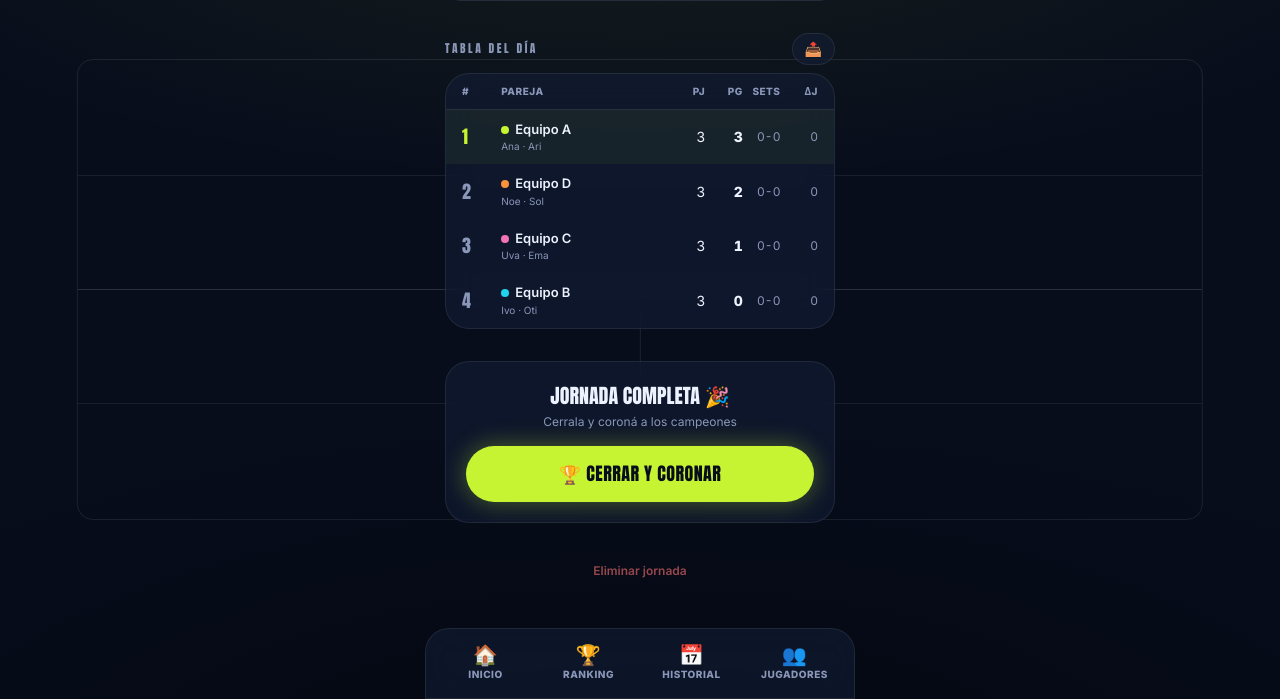
Scenario: Session: cierre de jornada › con los 6 jugados cierra directo, sin confirmación
(page scrolled)
Expected: the text "Jornada completa 🎉" is shown, [550,380,730,411]
Click the button "🏆 Cerrar y coronar". click: x=640, y=474
box: [466,446,814,502]
(page scrolled)
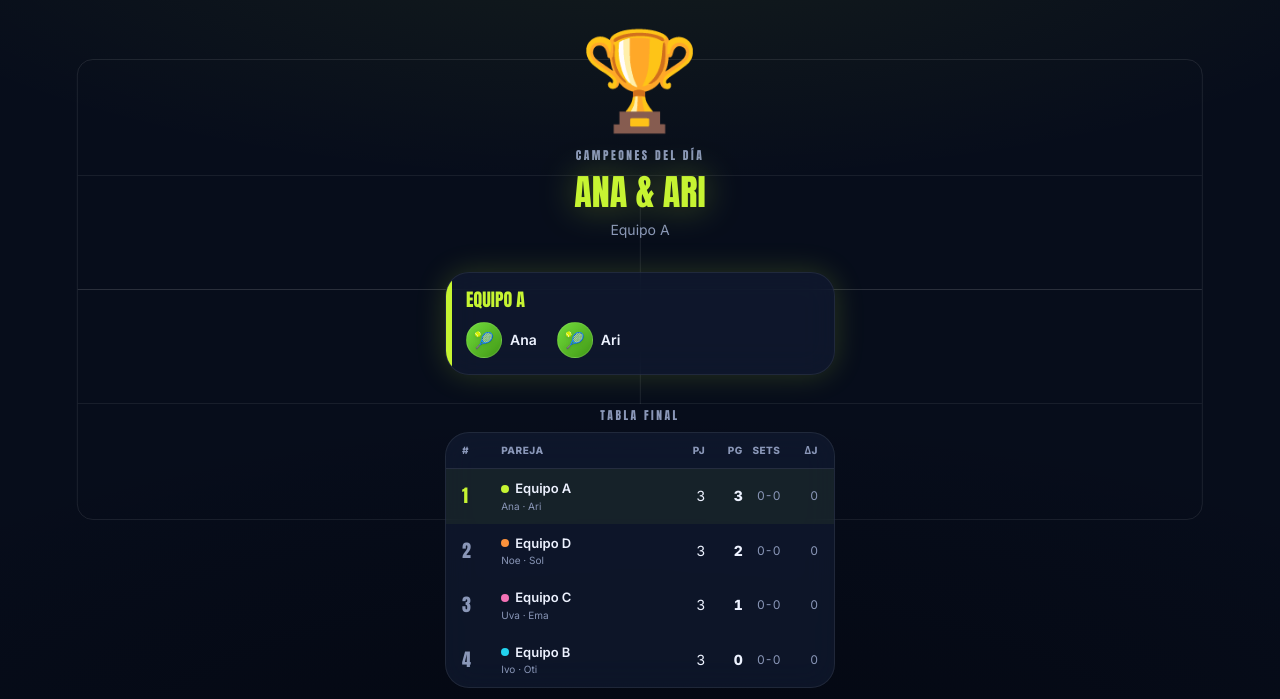
Now the text "Campeones del día" is shown, box [576,146,704,164]
